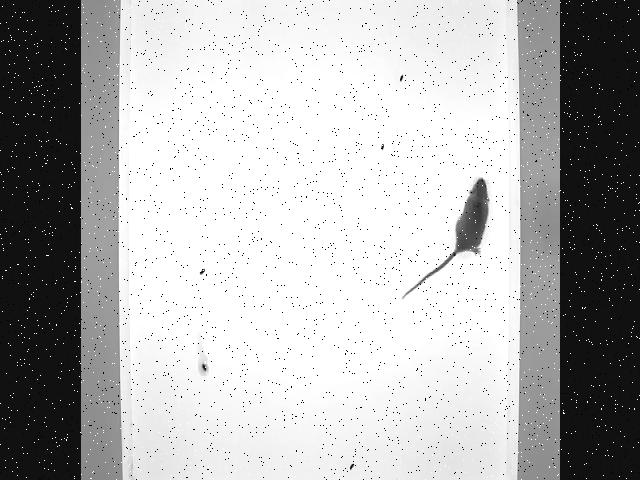Tikus: (398, 174, 492, 304)
